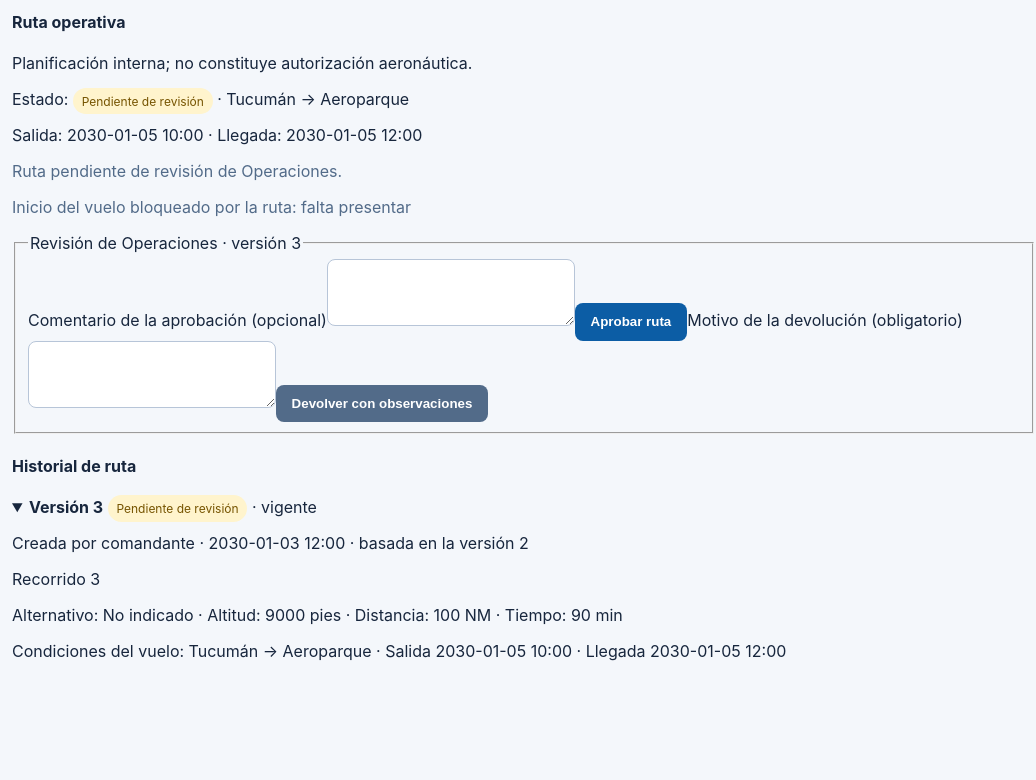
Scenario: Operaciones aprueba la versión que está revisando y la pantalla se actualiza con la decisión
Expected: the text "Revisión de Operaciones · versión 3" is shown, [28, 233, 303, 253]
Step 1. Type "Conforme" into the text box labelled "Comentario de la aprobación (opcional)" → (451, 293), box [327, 259, 575, 326]
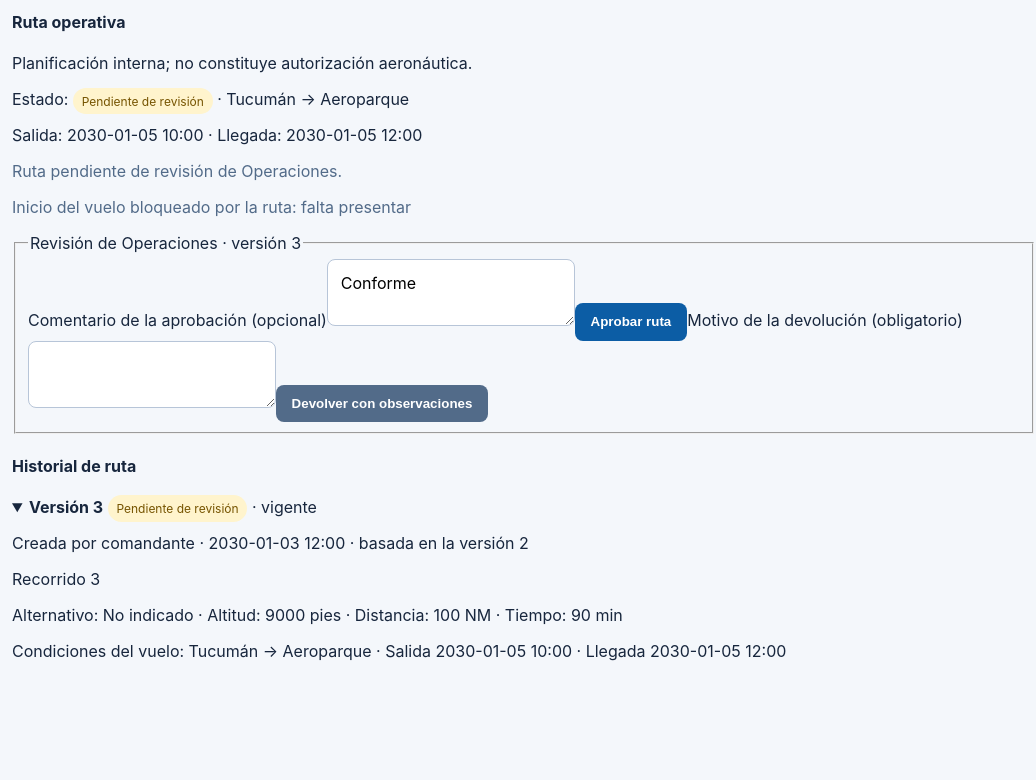
Step 2. Click the button "Aprobar ruta" → (631, 322), box [574, 303, 687, 341]
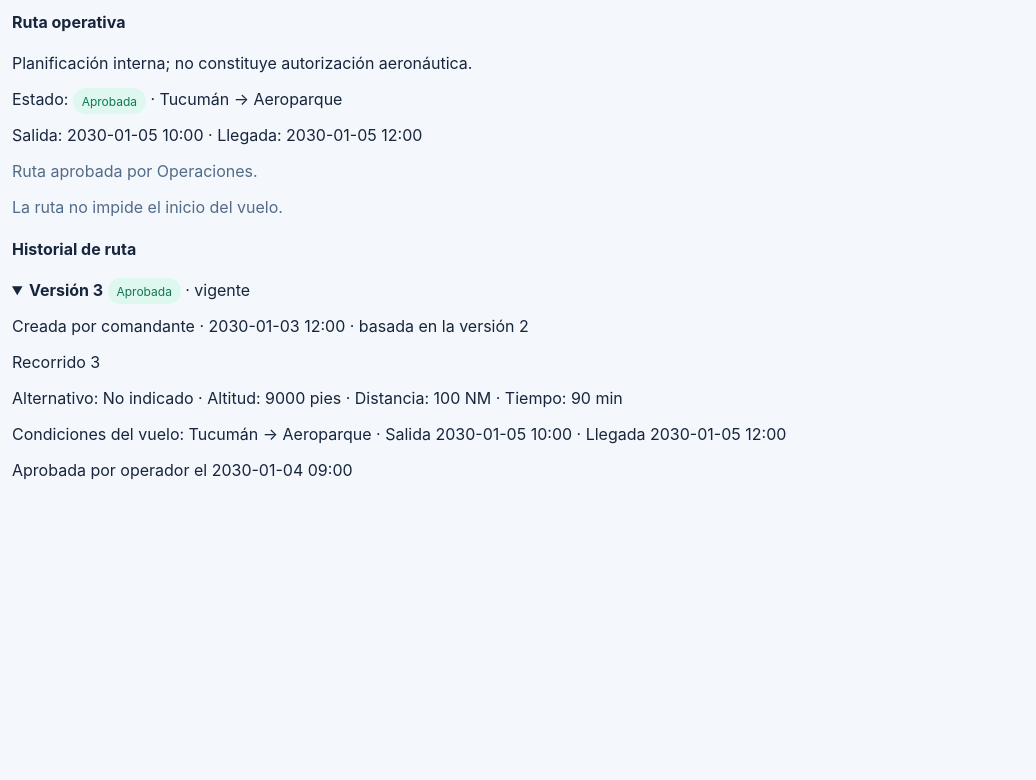
Result: the message reads "Ruta aprobada por Operaciones." at [12, 161, 258, 181]
Result: the button "Aprobar ruta" is gone
Result: the text "La ruta no impide el inicio del vuelo." is shown at [12, 197, 283, 217]
